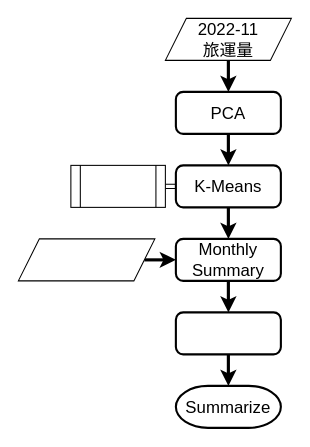
This 310x447 diagram has some shape labels left out. Here are the shapes that lost their labels. From the top down, the centre of each, then its label:
At (117,185): "Knee Detection".
At (86,259): "202001~202211 旅運量".
At (227,333): "Trending".
